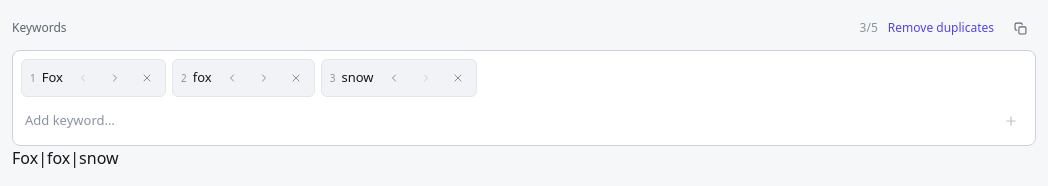
Test: KeywordEditor › removes duplicates on request
This screenshot has width=1048, height=186.
Click the button "Remove duplicates" at (941, 28), box 882,17 -> 1000,39
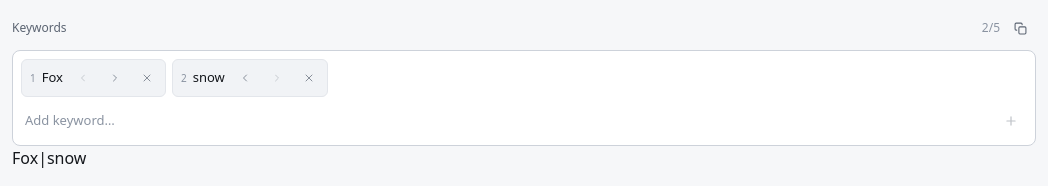
Now the text with test id "value" reads "Fox|snow", box 12,147 -> 86,169
